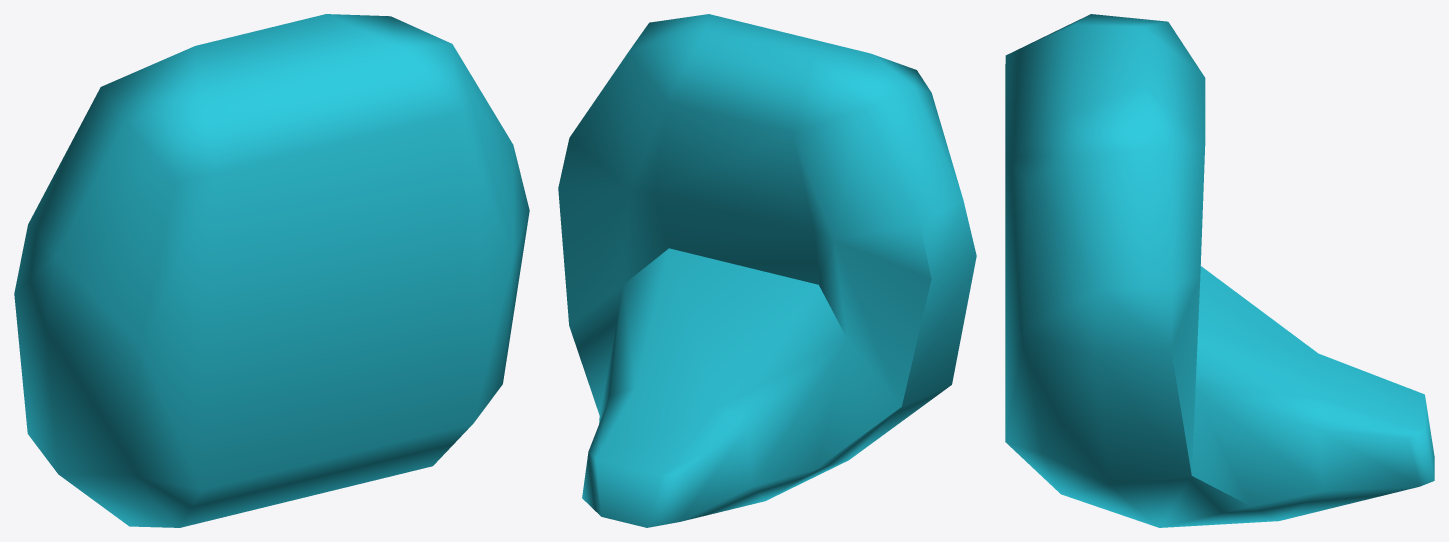
File: side-chair.glb
3 renders of one model, left to right at view 1: azimuth 30°, elevation 25°; view 2: azimuth 150°, elevation 25°; view 3: azimuth 270°, elevation 25°, orthographic. The views are drawn at different scales.
Parts seen in each view (by area): view 1: office_chair_002; view 2: office_chair_002; view 3: office_chair_002.
Boxes of the visible parts, x1,y1,x2,y2 form: office_chair_002: [14, 14, 529, 527]; office_chair_002: [558, 14, 976, 527]; office_chair_002: [1005, 14, 1434, 527].
Bounding box in the file's own units: 0.8787 × 0.8386 × 0.7617.
Materials: 1 (1 with a texture image).
